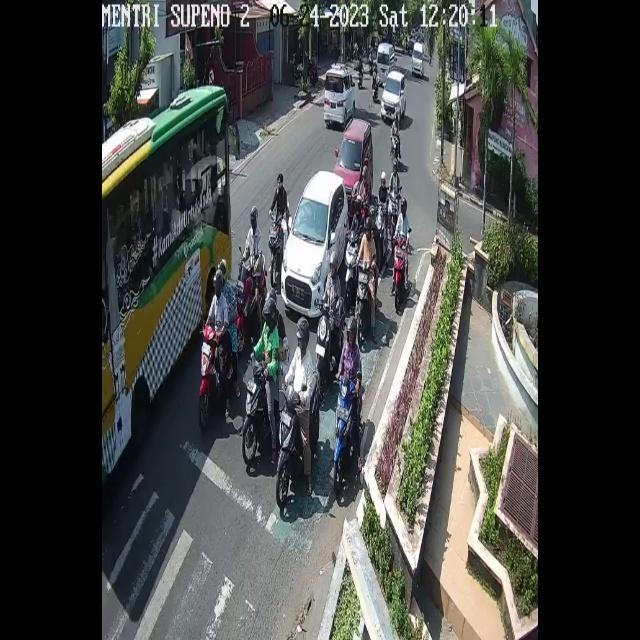bus: (240, 351, 294, 464), (286, 356, 328, 494), (198, 323, 238, 432), (330, 374, 363, 500), (236, 253, 266, 324), (316, 298, 339, 380), (357, 259, 374, 338), (266, 210, 281, 286), (343, 227, 359, 290), (393, 237, 406, 310), (389, 130, 402, 172), (388, 188, 399, 225), (377, 206, 387, 237)
car: (103, 84, 232, 474)
motorcycle: (281, 169, 349, 319), (334, 116, 374, 196), (323, 65, 355, 127), (381, 71, 407, 123), (376, 42, 396, 82), (411, 40, 426, 80)
